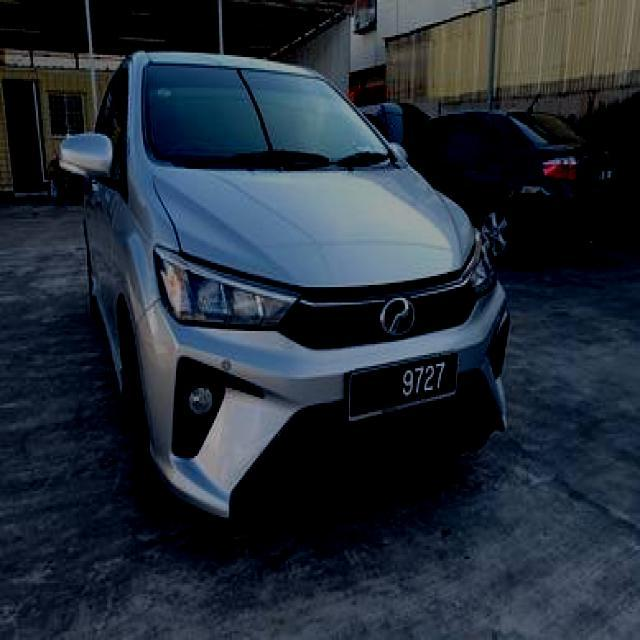PeroduaBezza: (56, 48, 513, 522)
